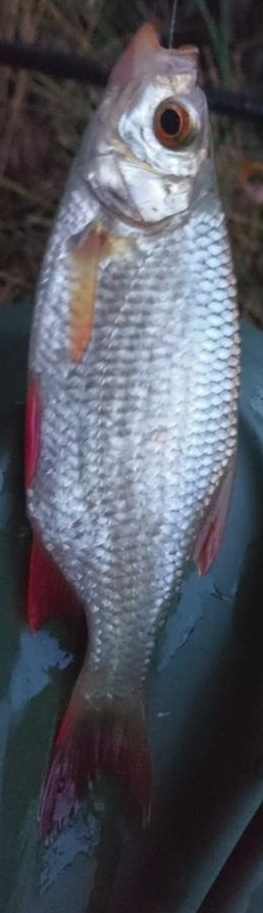Scardinius erythrophthalmus: (20, 20, 243, 893)
